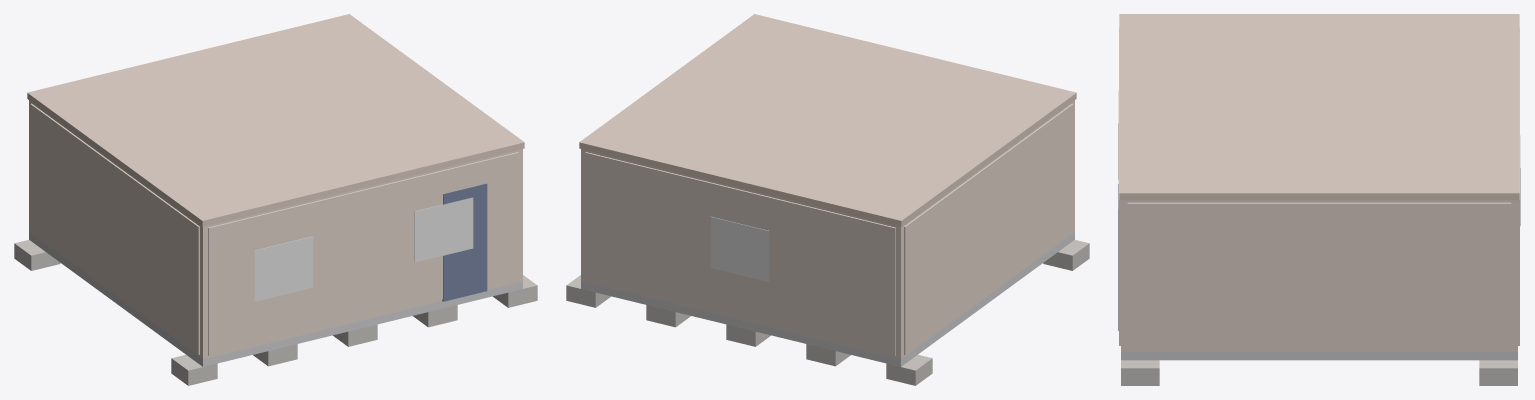
The model's file is Studio-20-Base-Mauve-LOD0.glb.
3 renders of one model, left to right at view 1: azimuth 30°, elevation 25°; view 2: azimuth 150°, elevation 25°; view 3: azimuth 270°, elevation 25°, orthographic. The views are drawn at different scales.
Visible parts, largest first — view 1: RoofMain, ExteriorPanelsStandard, WindowsStandard, FoundationBlocks, BaseFrame, ExteriorShell, EntryDoor; view 2: ExteriorPanelsStandard, RoofMain, FoundationBlocks, BaseFrame, ExteriorShell, WindowsStandard; view 3: RoofMain, ExteriorPanelsStandard, ExteriorShell, BaseFrame, FoundationBlocks.
Boxes of the visible parts, x1,y1,x2,y2 form: RoofMain: (27,14,524,226); ExteriorPanelsStandard: (30,103,518,355); WindowsStandard: (254,197,473,301); FoundationBlocks: (14,240,537,385); BaseFrame: (29,232,522,366); ExteriorShell: (29,100,522,359); EntryDoor: (442,183,487,301); ExteriorPanelsStandard: (585,103,1073,355); RoofMain: (579,14,1076,226); FoundationBlocks: (566,240,1089,385); BaseFrame: (581,232,1074,366); ExteriorShell: (581,100,1074,359); WindowsStandard: (710,216,769,281); RoofMain: (1119,14,1519,200); ExteriorPanelsStandard: (1119,27,1519,349); ExteriorShell: (1121,200,1517,351); BaseFrame: (1121,351,1517,360); FoundationBlocks: (1121,360,1517,385).
Size of the model in its own units: 7.14 by 3.17 by 6.24.
